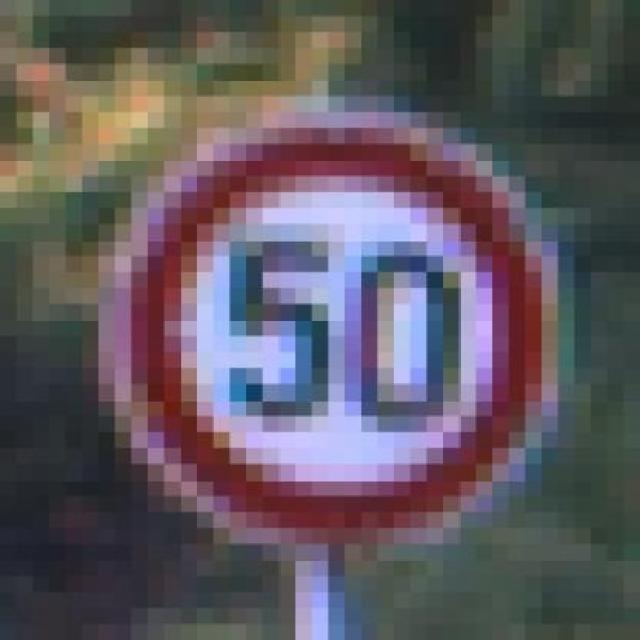forb_speed_over_50: (143, 133, 545, 532)
